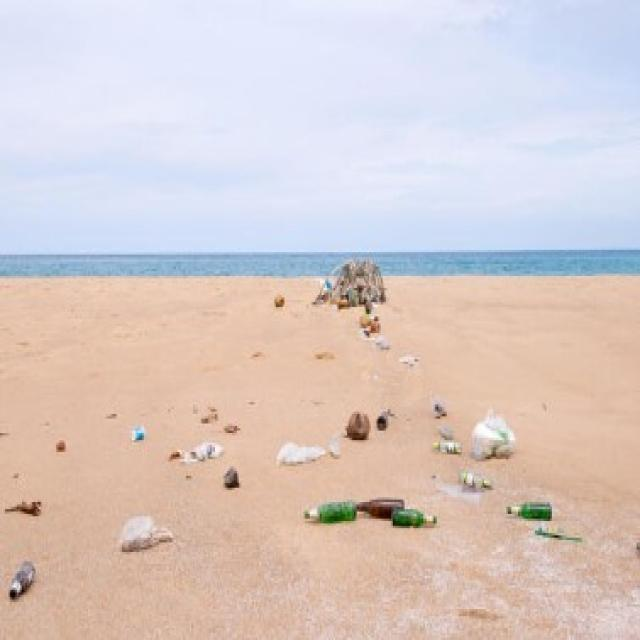electronic: (298, 491, 559, 536)
